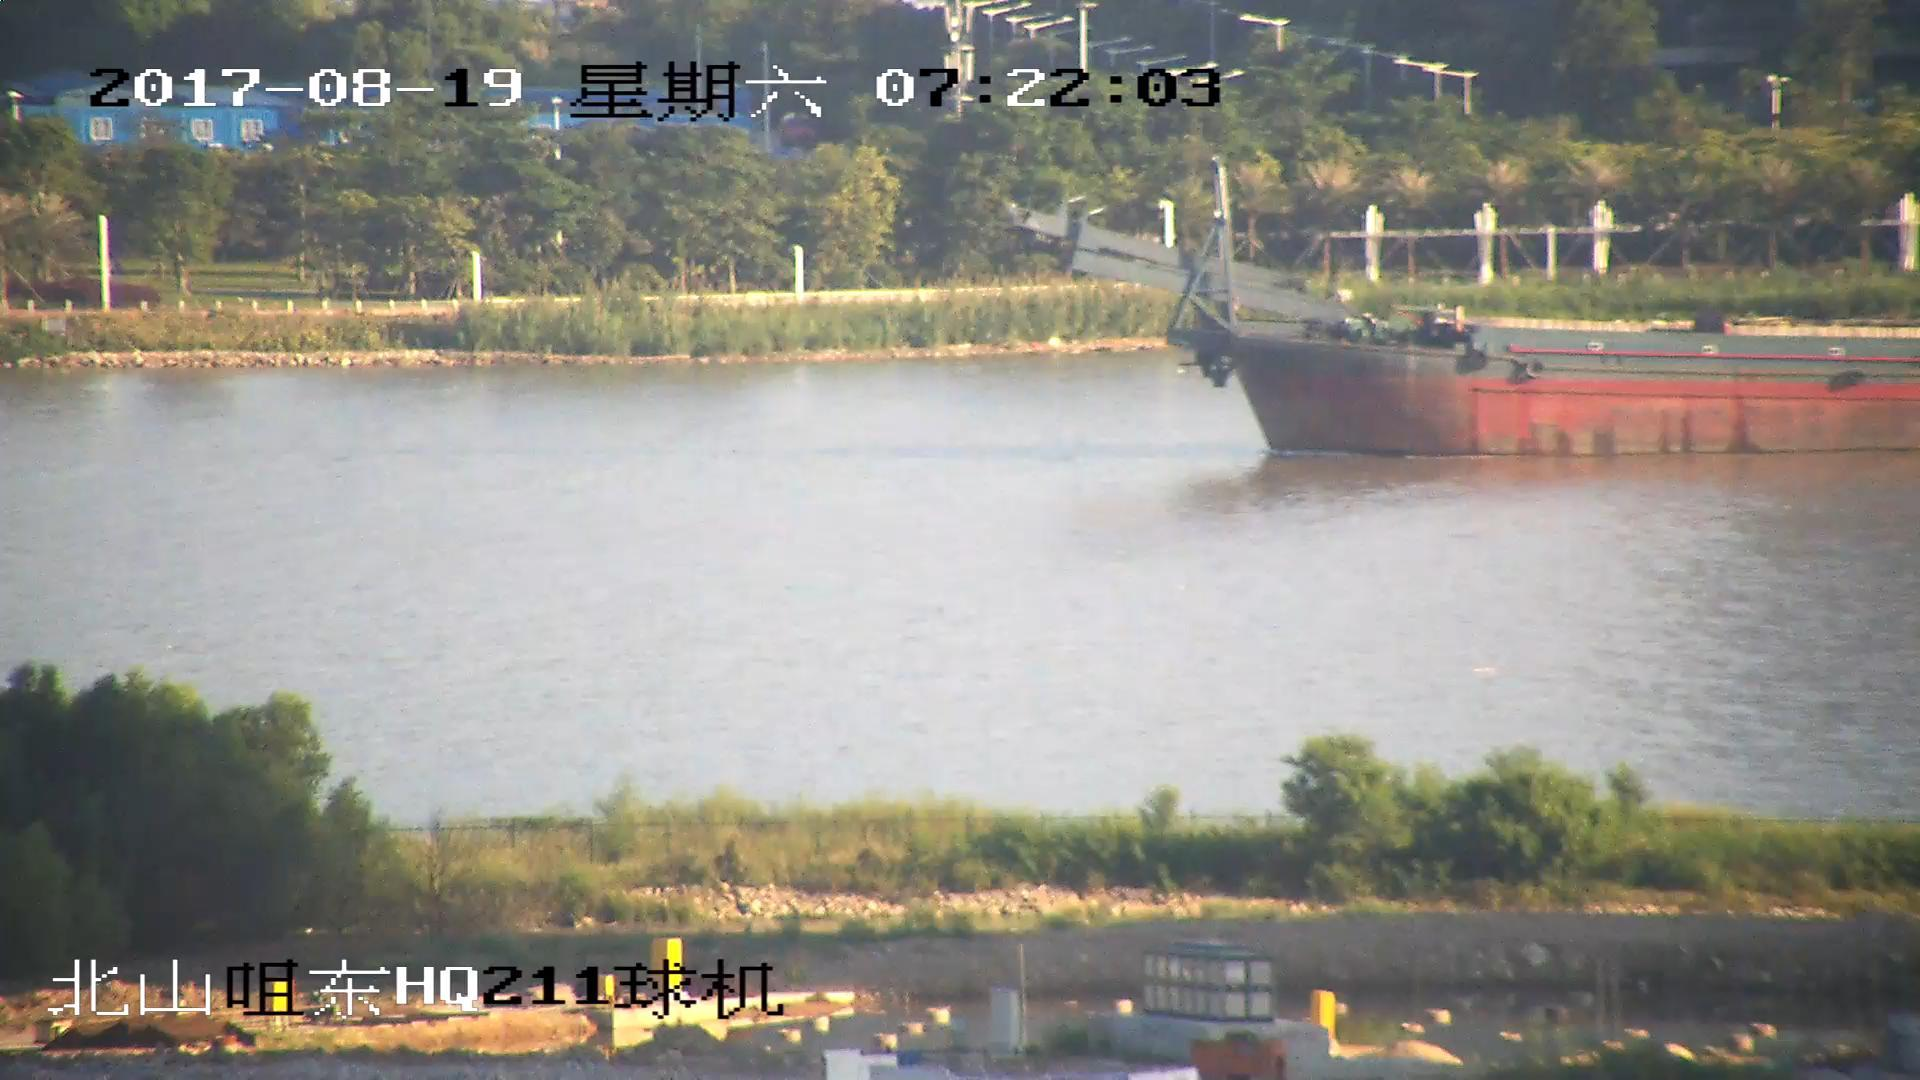Ship: (1010, 165, 1920, 456)
